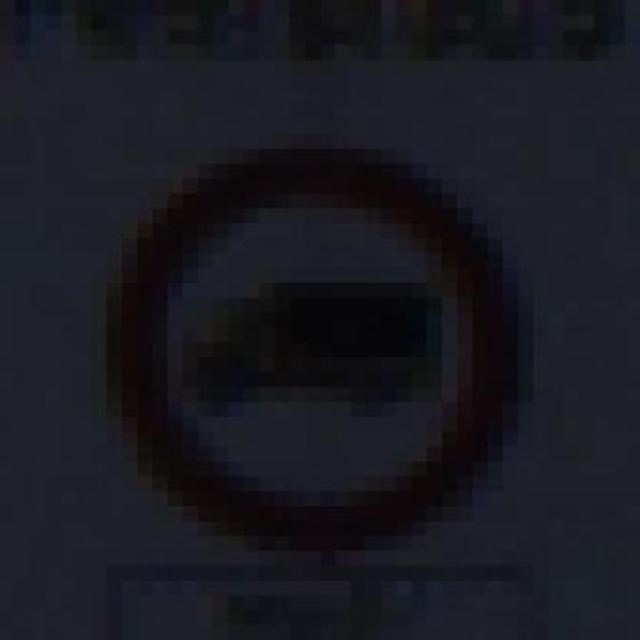Truck traffic is prohibited: (44, 109, 593, 571)
